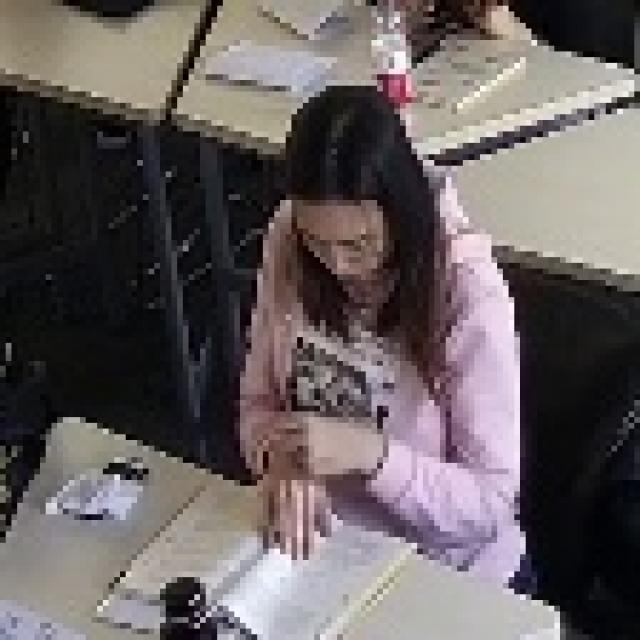write: (230, 80, 542, 586)
